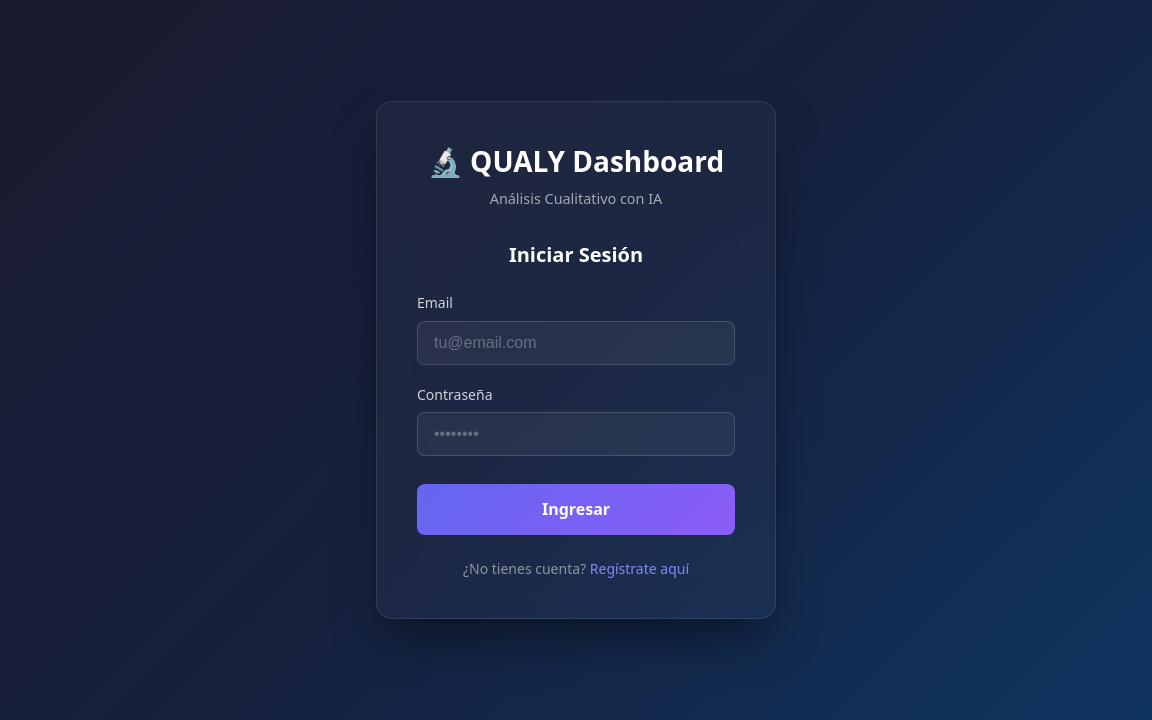
Test: LoginPage › validates email and password are required
The width and height of the screenshot is (1152, 720).
Note: Try to submit empty form
Click the button "Ingresar" at point(576, 510), box x1=417 y1=484 x2=735 y2=535
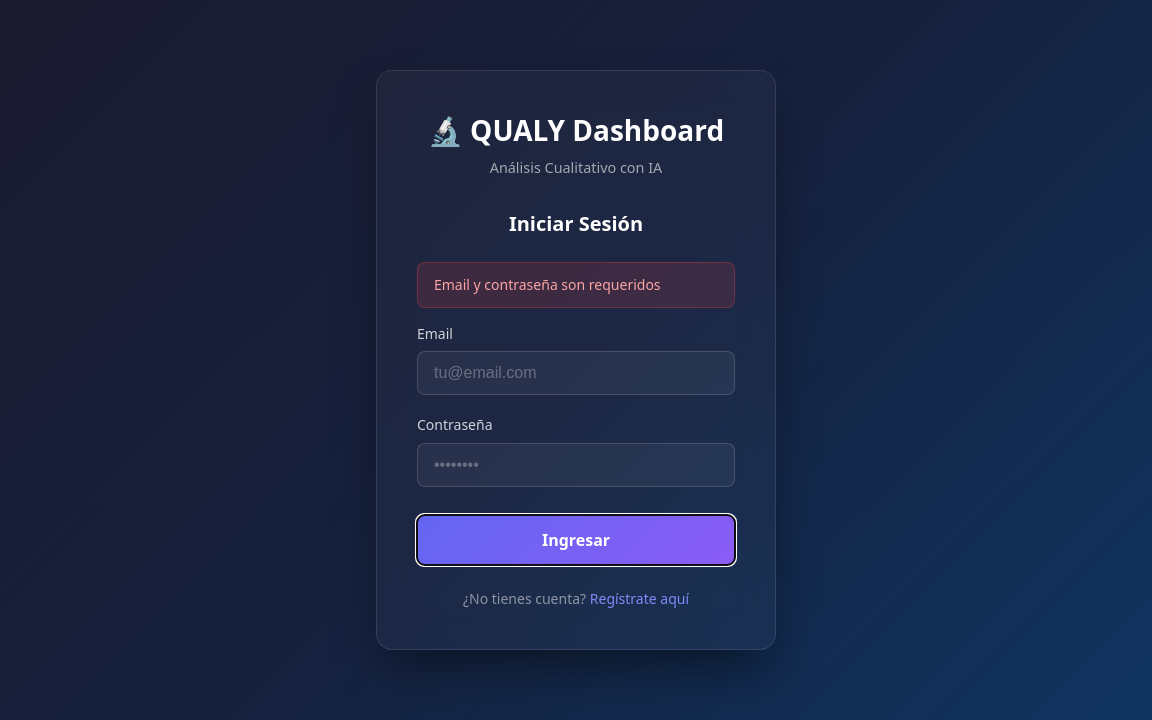
Check: the text "Email y contraseña son requeridos" is shown, box x1=417 y1=262 x2=735 y2=308
